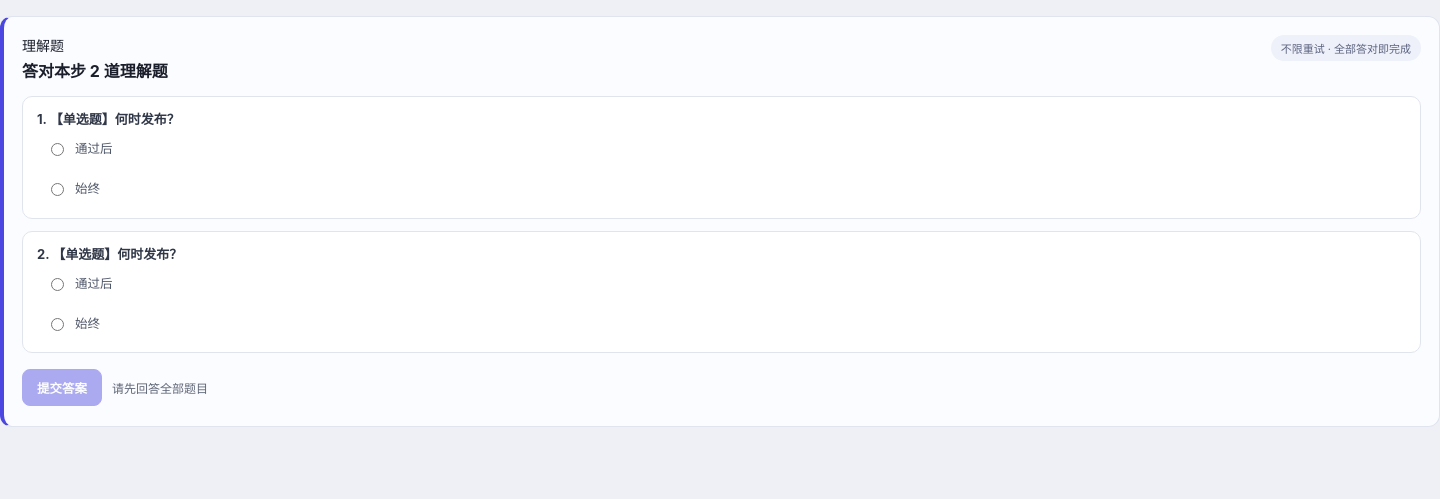
editing one answer retains feedback for the unedited question
Click the 1st radio button labelled "通过后" at (58, 150), box [51,143,64,156]
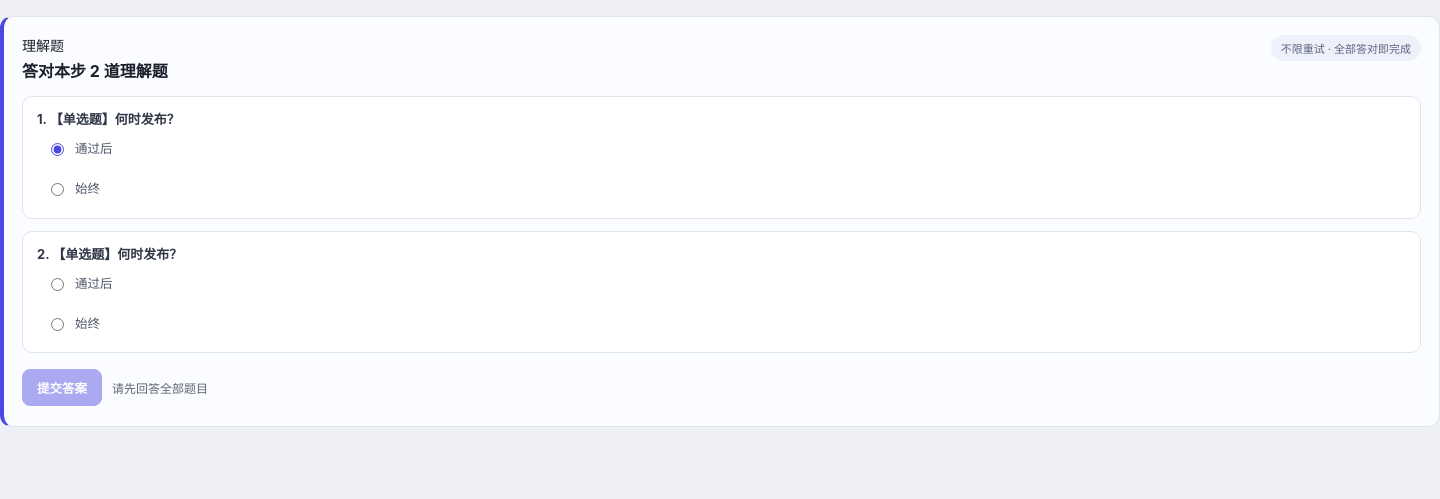
Click the 2nd radio button labelled "通过后" at (58, 284), box [51,278,64,291]
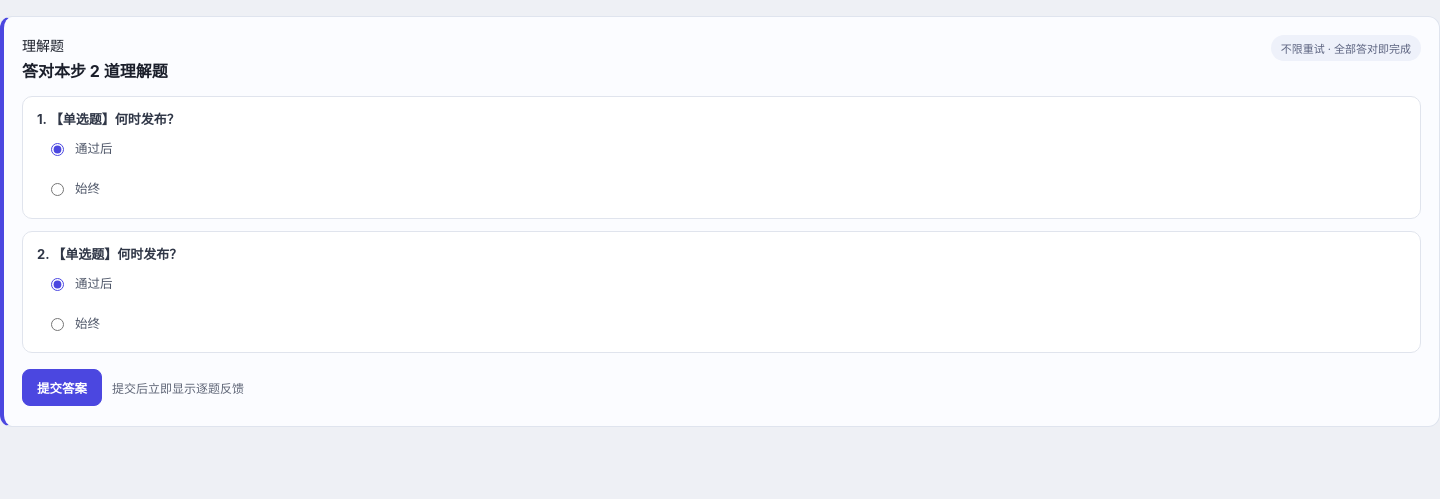
Click the button "提交答案" at (62, 388), box [22,369,102,406]
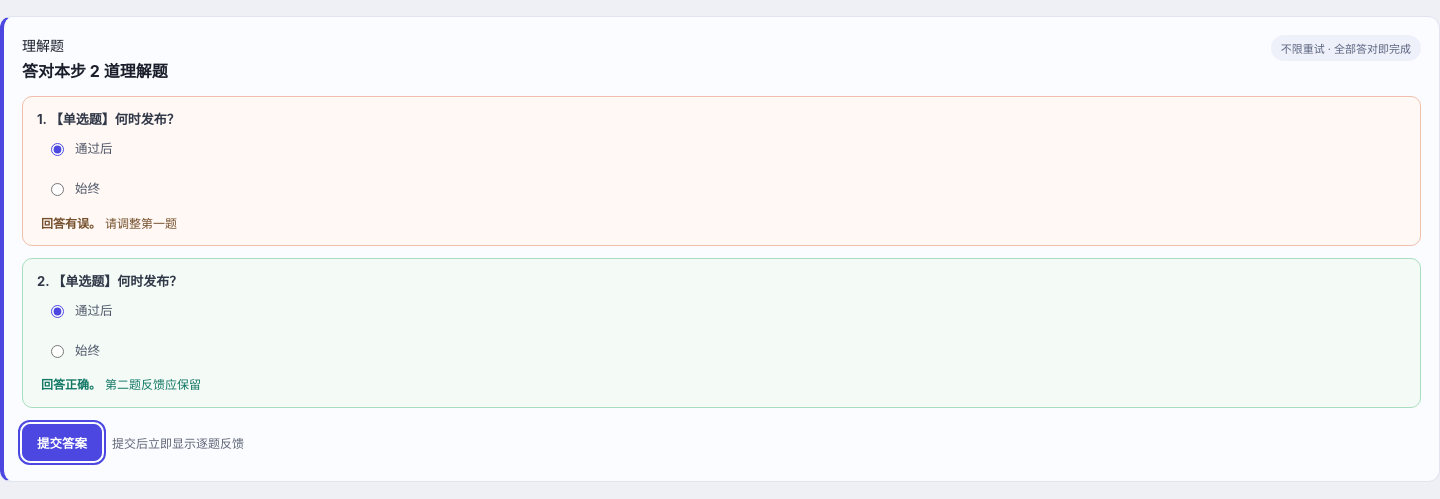
Expected: the text "回答有误。请调整第一题" is shown, [41,216,177,231]
Click the radio button named "quiz-2-q1" at (58, 189), box [51,183,64,196]
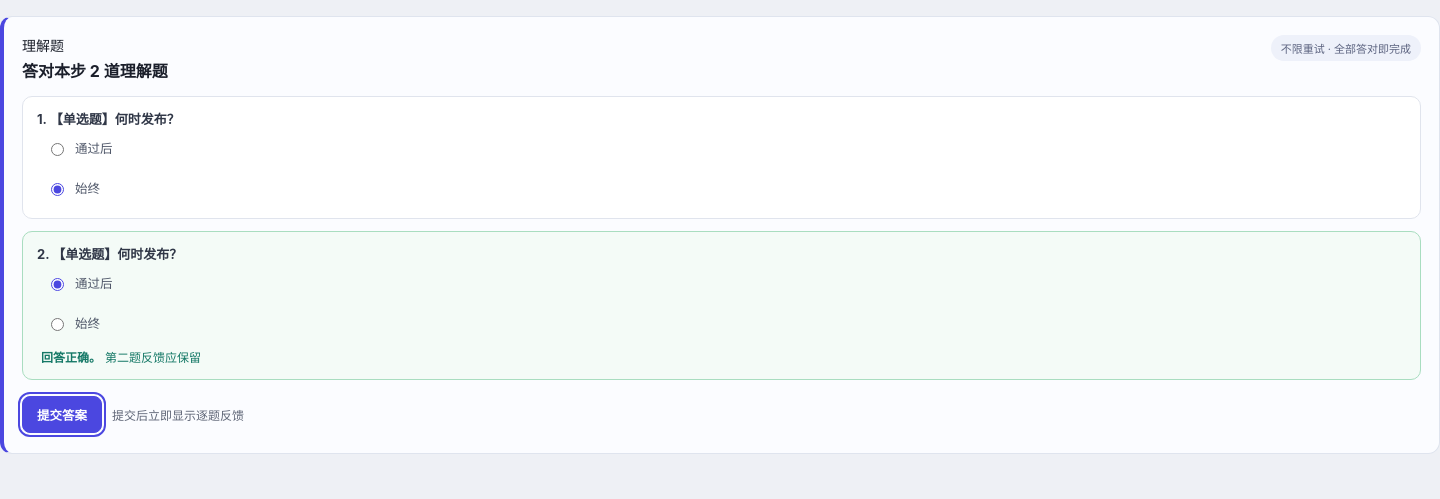
Expected: the text "回答正确。第二题反馈应保留" is shown, [41,350,201,365]
Expected: the text "请调整第一题" is gone
